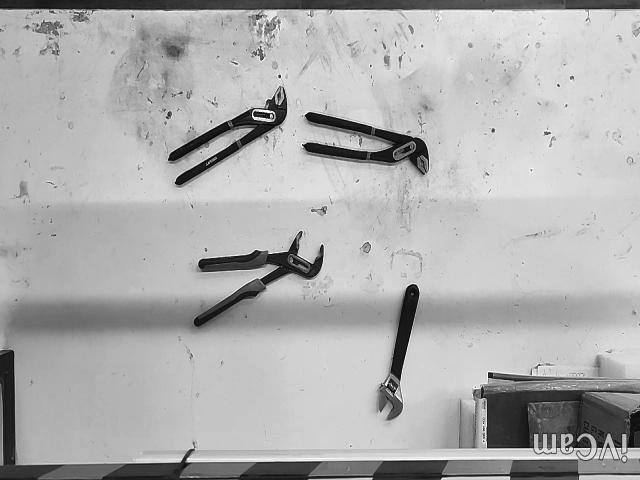Adjustable spanner: (379, 285, 420, 420)
Gas wrench: (194, 232, 324, 327), (169, 86, 288, 187), (304, 114, 429, 175)
